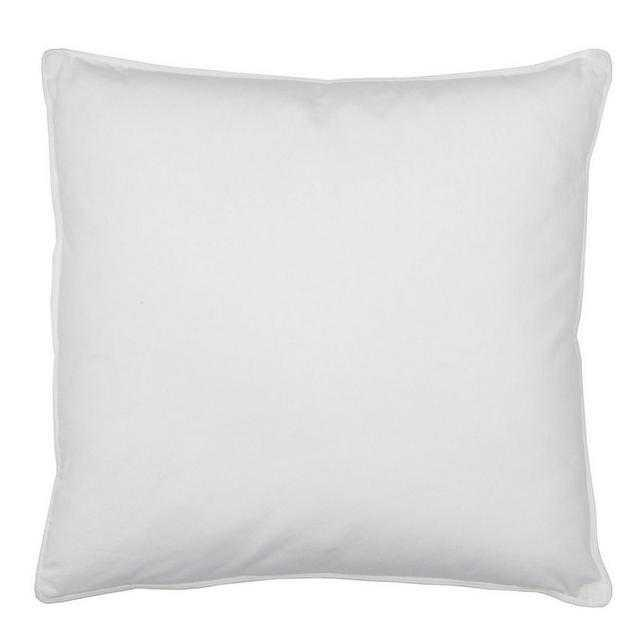pillow: (33, 44, 615, 608)
